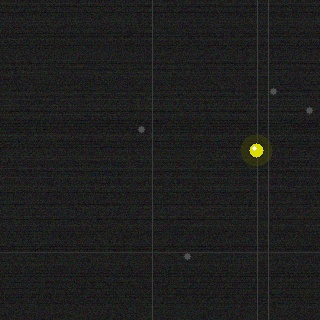yellow_warning: (247, 141, 265, 159)
